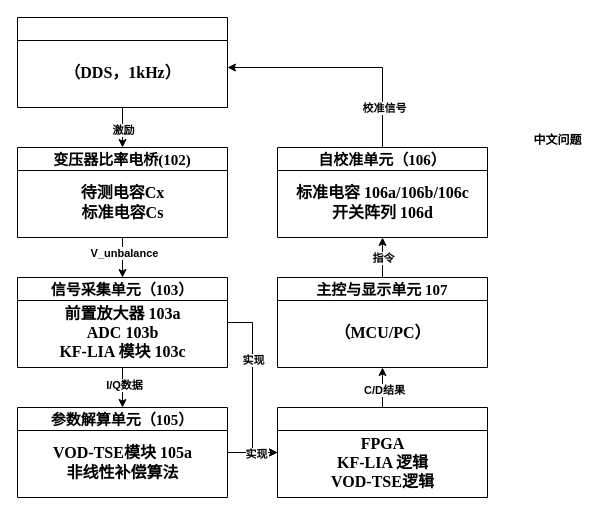
The diagram is 610 pixels wide and 515 high, and some of its shapes have lost their labels. Here are the shapes that lost their labels. From the top down, the box of each, then its label:
(16, 16, 228, 108): 信号发生器(101)
(276, 406, 488, 498): 数字处理核心（104）
